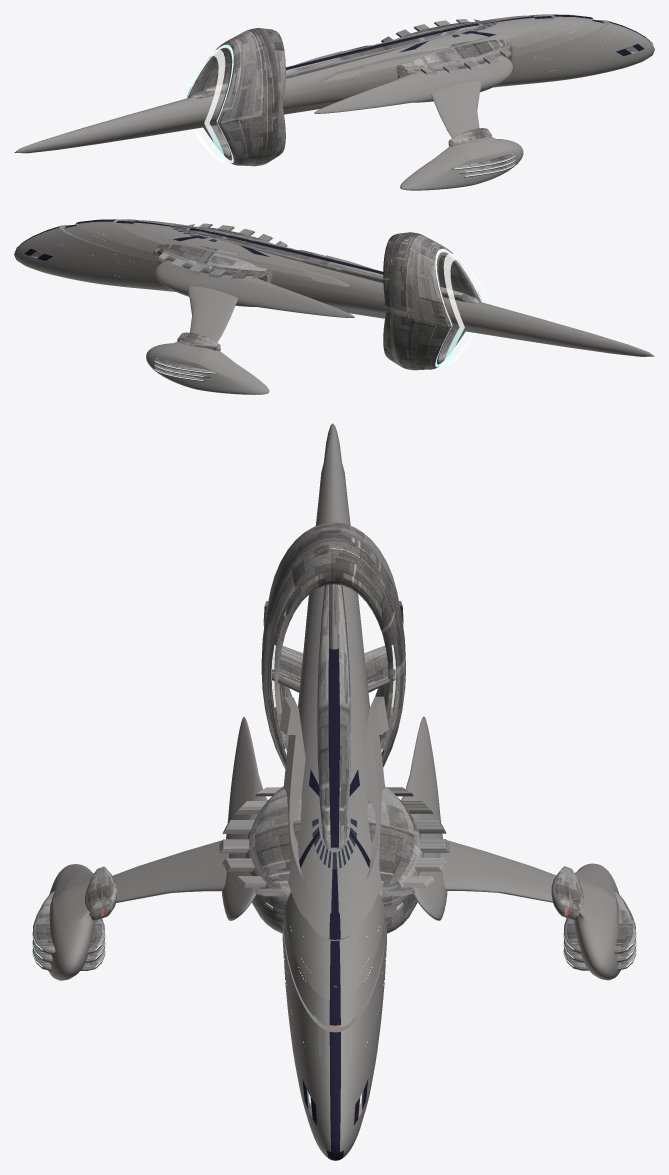
File: transport_t1.FBX
3 renders of one model, top to bottom at view 1: azimuth 30°, elevation 25°; view 2: azimuth 150°, elevation 25°; view 3: azimuth 270°, elevation 25°, orthographic. The views are drawn at different scales.
Parts seen in each view (by area): view 1: polySurface39; view 2: polySurface39; view 3: polySurface39.
Boxes of the visible parts, x1,y1,x2,y2 form: polySurface39: (14,14,654,190); polySurface39: (14,219,654,394); polySurface39: (32,423,636,1160).
Bounding box in the file's own units: 395 × 81.52 × 161.
7 materials, 1 textured.
